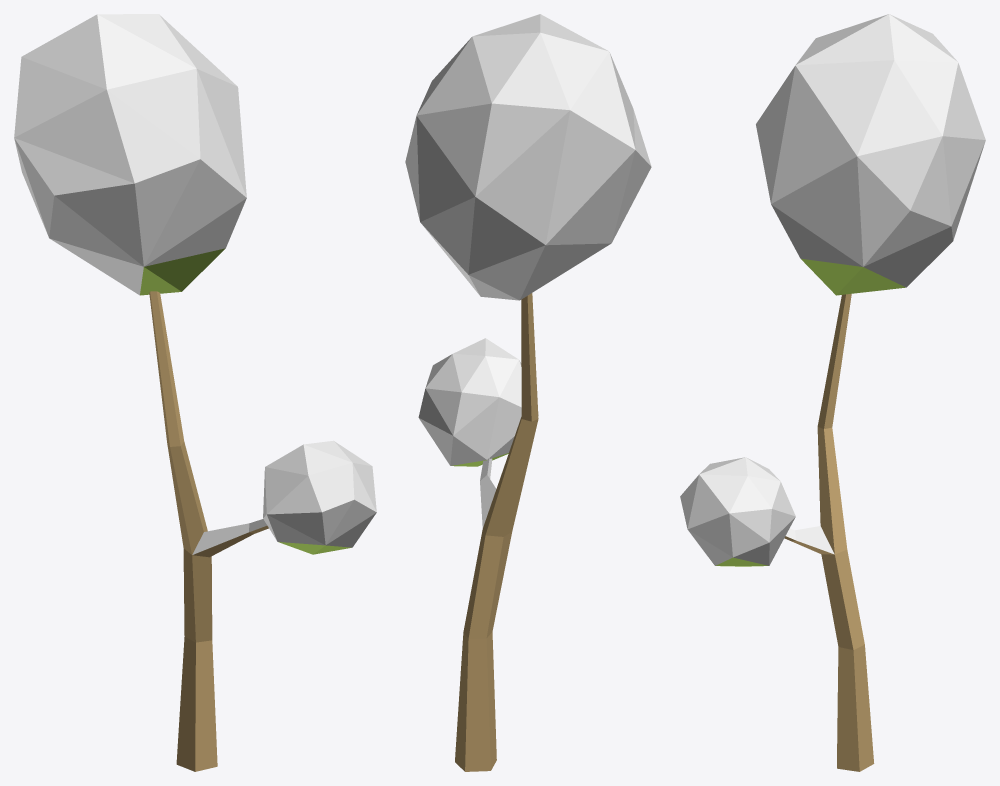
Rendered from Simple_Tree_s_Snow_BT_02.fbx.
The picture shows the model from 3 angles, left to right: view 1: azimuth 30°, elevation 25°; view 2: azimuth 150°, elevation 25°; view 3: azimuth 270°, elevation 25°; orthographic projection. The views are drawn at different scales.
Parts seen in each view (by area): view 1: Simple_Tree_s_Snow_BT_02; view 2: Simple_Tree_s_Snow_BT_02; view 3: Simple_Tree_s_Snow_BT_02.
Part boxes in pixels (left/top/right/bottom): Simple_Tree_s_Snow_BT_02: left=14, top=14, right=376, bottom=771; Simple_Tree_s_Snow_BT_02: left=405, top=14, right=651, bottom=771; Simple_Tree_s_Snow_BT_02: left=680, top=14, right=985, bottom=771.
Size of the model in its own units: 148 by 382 by 149.
